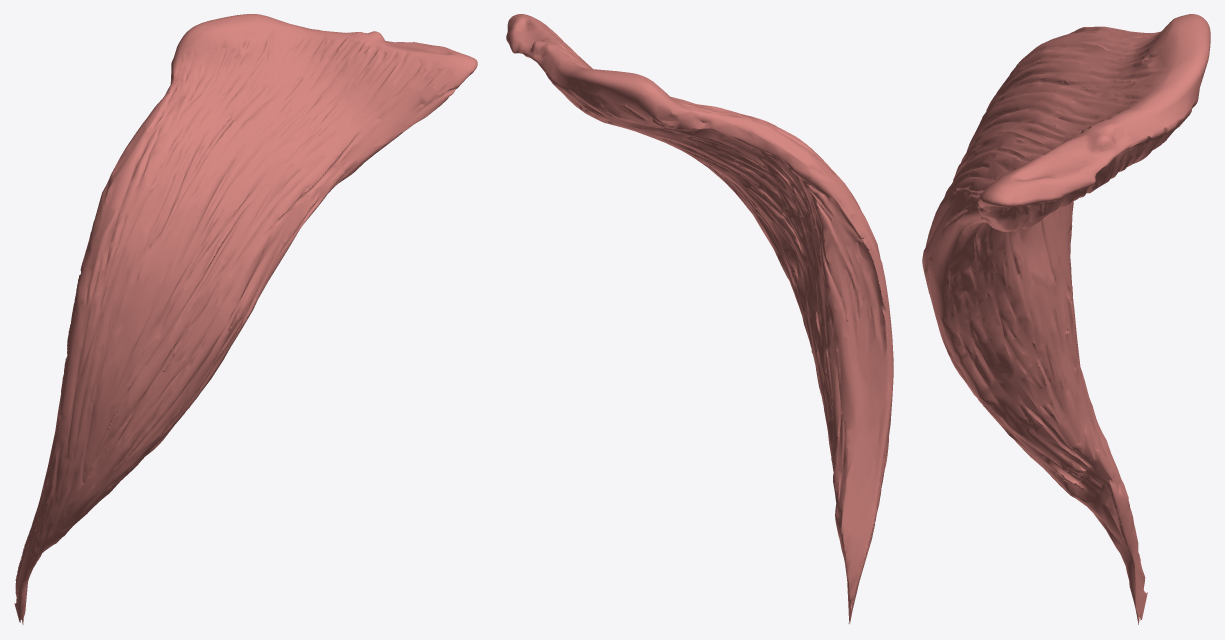
The model's file is fma34680-fj1468.glb.
3 renders of one model, left to right at view 1: azimuth 30°, elevation 25°; view 2: azimuth 150°, elevation 25°; view 3: azimuth 270°, elevation 25°, orthographic. The views are drawn at different scales.
Visible parts, largest first — view 1: FMA34680_FJ1468; view 2: FMA34680_FJ1468; view 3: FMA34680_FJ1468.
Boxes of the visible parts, bbox=[...] form: FMA34680_FJ1468: bbox=[14, 14, 477, 624]; FMA34680_FJ1468: bbox=[506, 14, 893, 624]; FMA34680_FJ1468: bbox=[922, 14, 1210, 624].
Size of the model in its own units: 0.1222 by 0.1513 by 0.0532.
